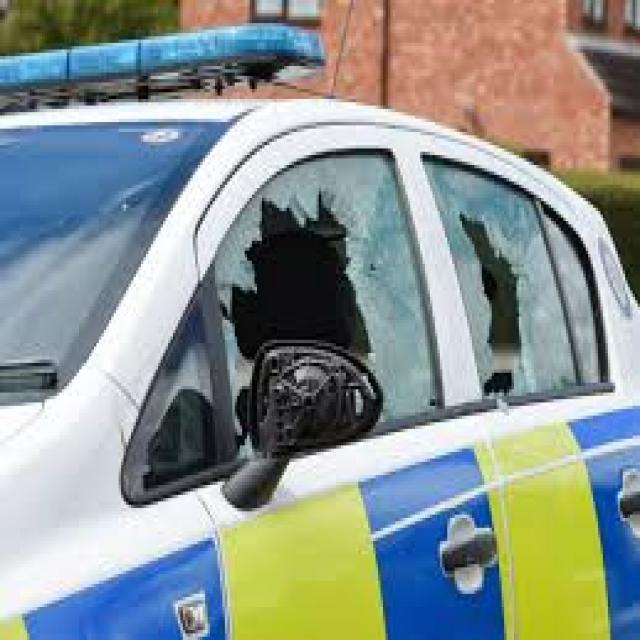damaged-window: (192, 141, 449, 447), (414, 132, 611, 406)
